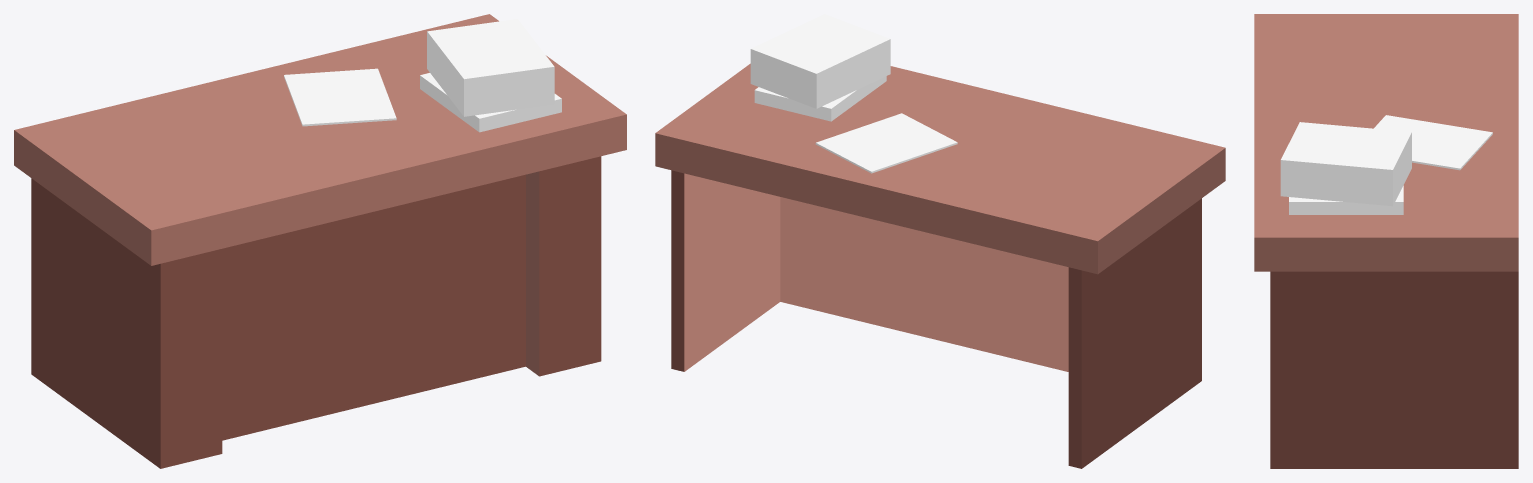
The model's file is office-desk-1.glb.
3 renders of one model, left to right at view 1: azimuth 30°, elevation 25°; view 2: azimuth 150°, elevation 25°; view 3: azimuth 270°, elevation 25°, orthographic. The views are drawn at different scales.
Parts seen in each view (by area): view 1: REFERENCE.002, Cube.001, Cube.002, Cube; view 2: REFERENCE.002, Cube.001, Cube.002, Cube; view 3: REFERENCE.002, Cube.001, Cube.002, Cube.
Part boxes in pixels (left/top/right/bottom): REFERENCE.002: left=14, top=14, right=626, bottom=468; Cube.001: left=427, top=19, right=554, bottom=116; Cube.002: left=284, top=68, right=396, bottom=126; Cube: left=420, top=73, right=561, bottom=132; REFERENCE.002: left=655, top=63, right=1225, bottom=468; Cube.001: left=750, top=14, right=890, bottom=108; Cube.002: left=815, top=113, right=957, bottom=173; Cube: left=754, top=76, right=886, bottom=121; REFERENCE.002: left=1254, top=14, right=1518, bottom=468; Cube.001: left=1280, top=122, right=1411, bottom=206; Cube.002: left=1374, top=115, right=1492, bottom=170; Cube: left=1289, top=185, right=1403, bottom=214.
Bounding box in the file's own units: 1.4 × 0.8461 × 0.7.
3 materials, 3 textured.
